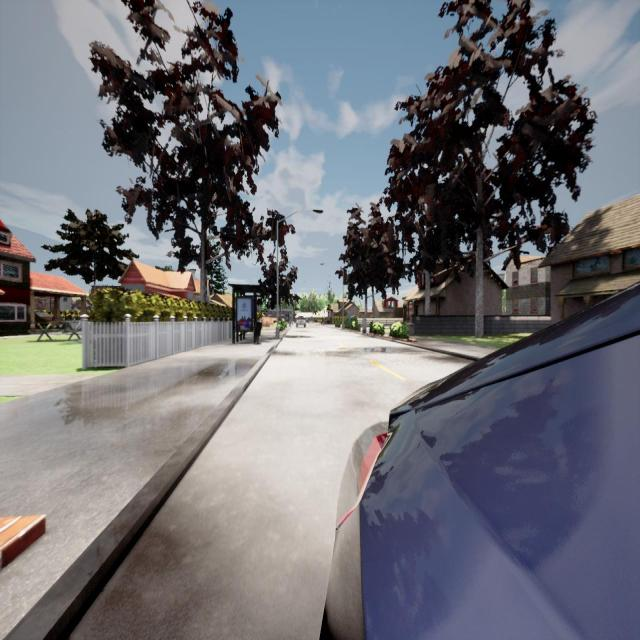Vehicle: (320, 280, 640, 640), (296, 314, 306, 329)
